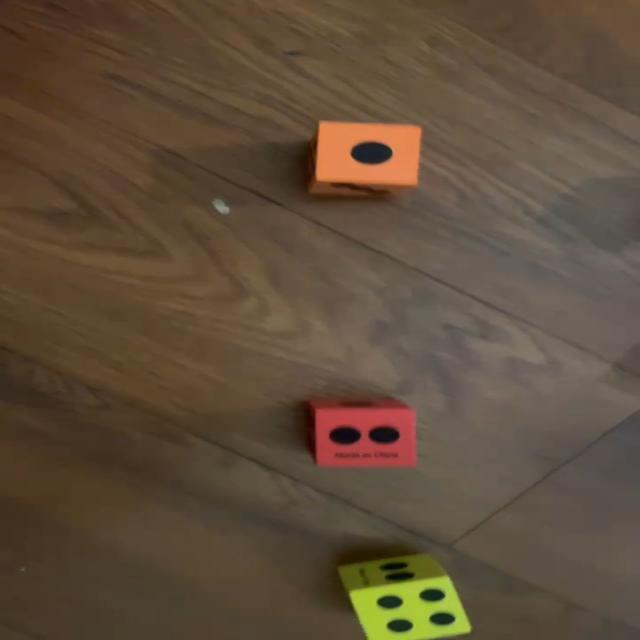red_block: (306, 394, 416, 466)
